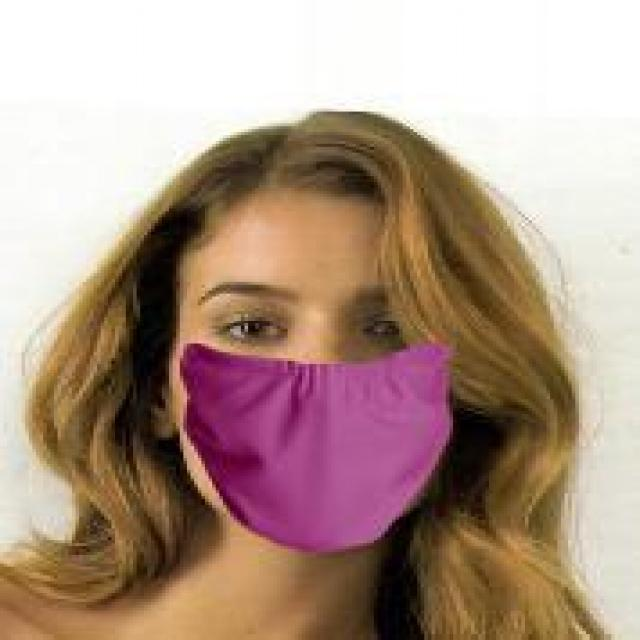mask: (140, 103, 529, 572)
